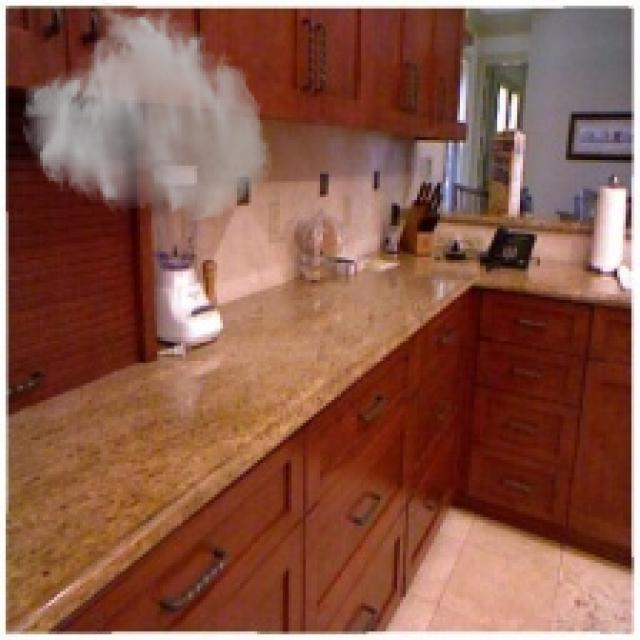Smoke: (19, 0, 274, 223)
